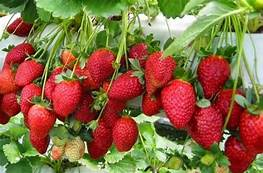Fresa: (158, 76, 198, 134), (185, 101, 225, 153), (194, 49, 231, 100), (143, 46, 179, 92), (107, 66, 148, 103), (25, 100, 60, 143), (237, 101, 263, 157), (86, 45, 121, 85), (111, 112, 141, 155), (14, 55, 47, 88), (28, 132, 52, 157)
